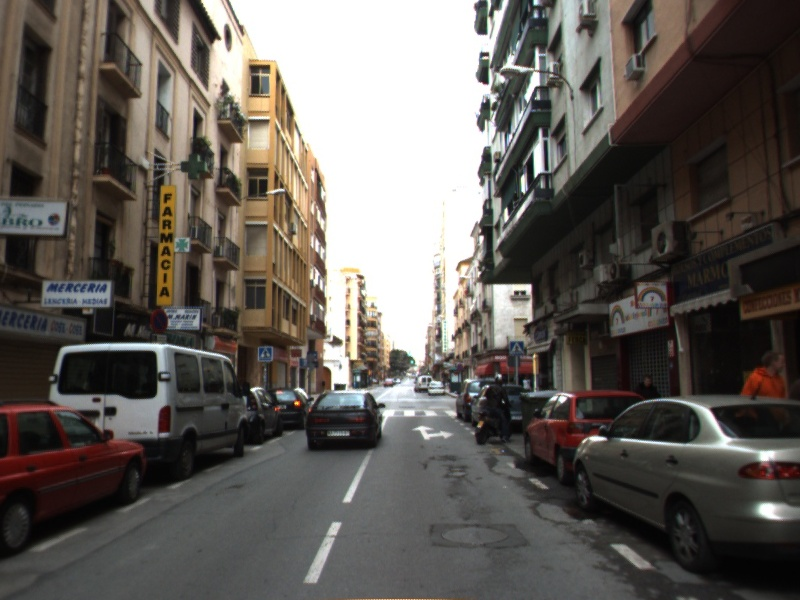STRAIGHT_RIGHT: (410, 424, 456, 442)
